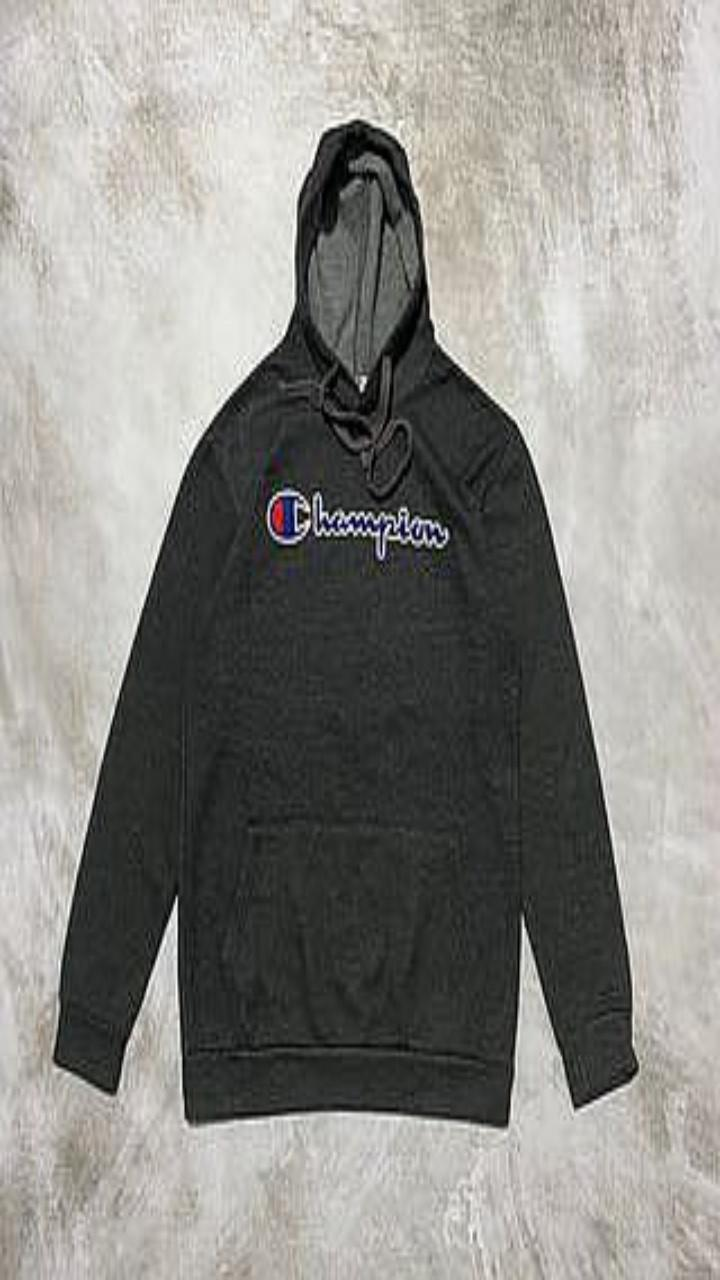Hoodie: (53, 119, 637, 1124)
